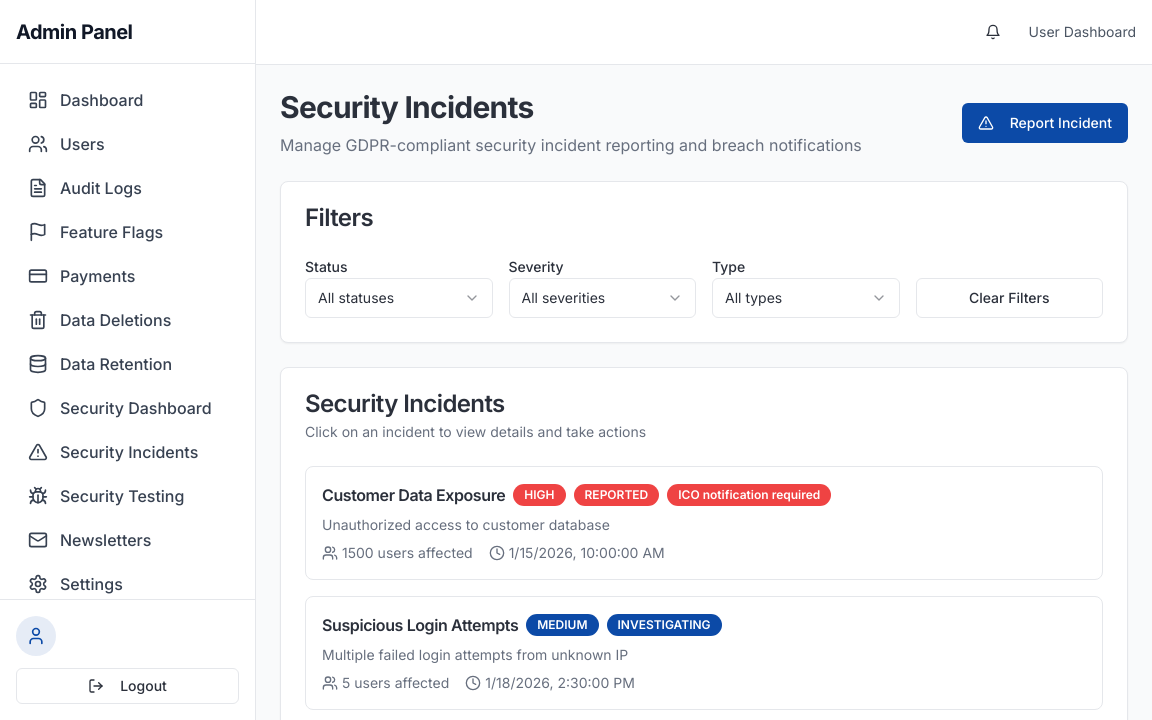
Test: AdminSecurityIncidents › Incident Details › should display 72-hour deadline for ICO notification
Click the heading "Customer Data Exposure" at (414, 495), box top-left (322, 483), bottom-right (505, 507)
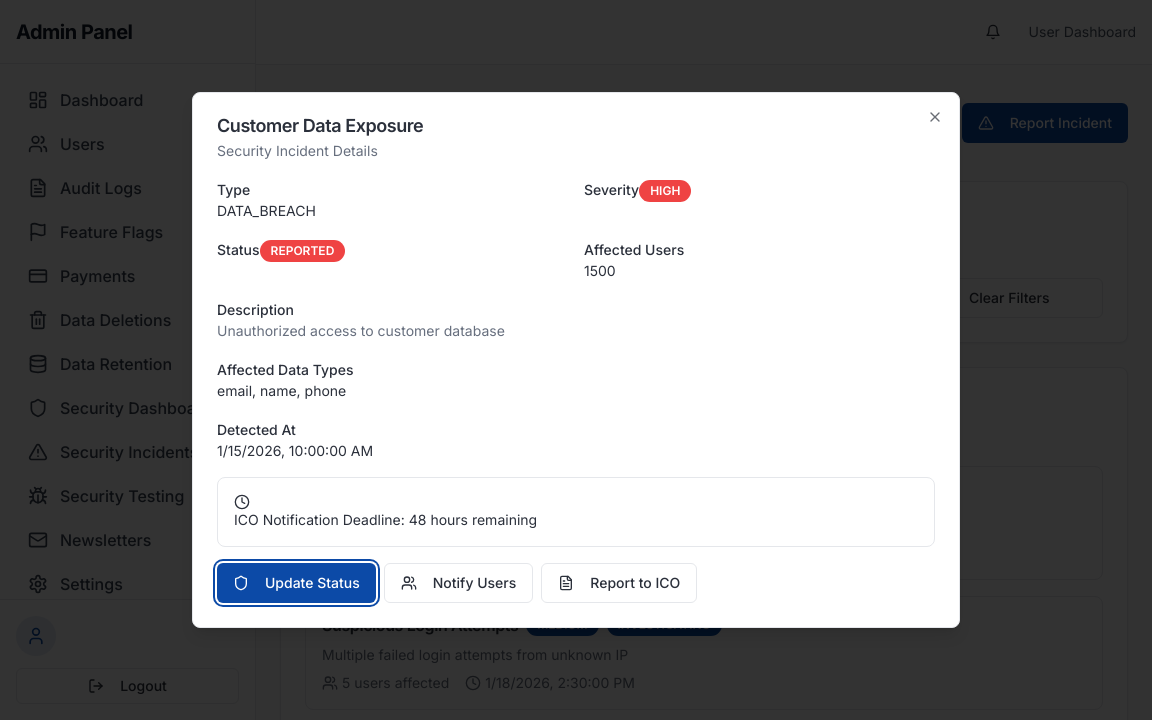
Result: the text "ICO Notification Deadline: 48 hours remaining" is shown at top-left (234, 511), bottom-right (537, 528)
